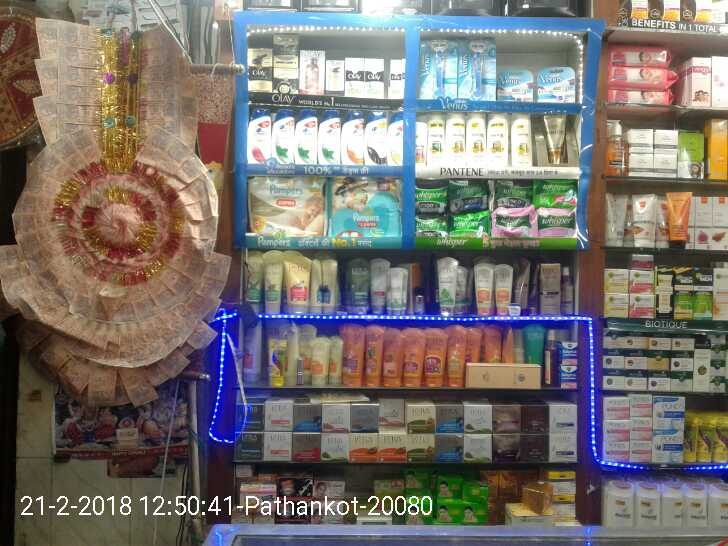venus: (458, 39, 495, 97), (422, 39, 458, 96), (538, 67, 578, 99), (498, 73, 530, 100)
